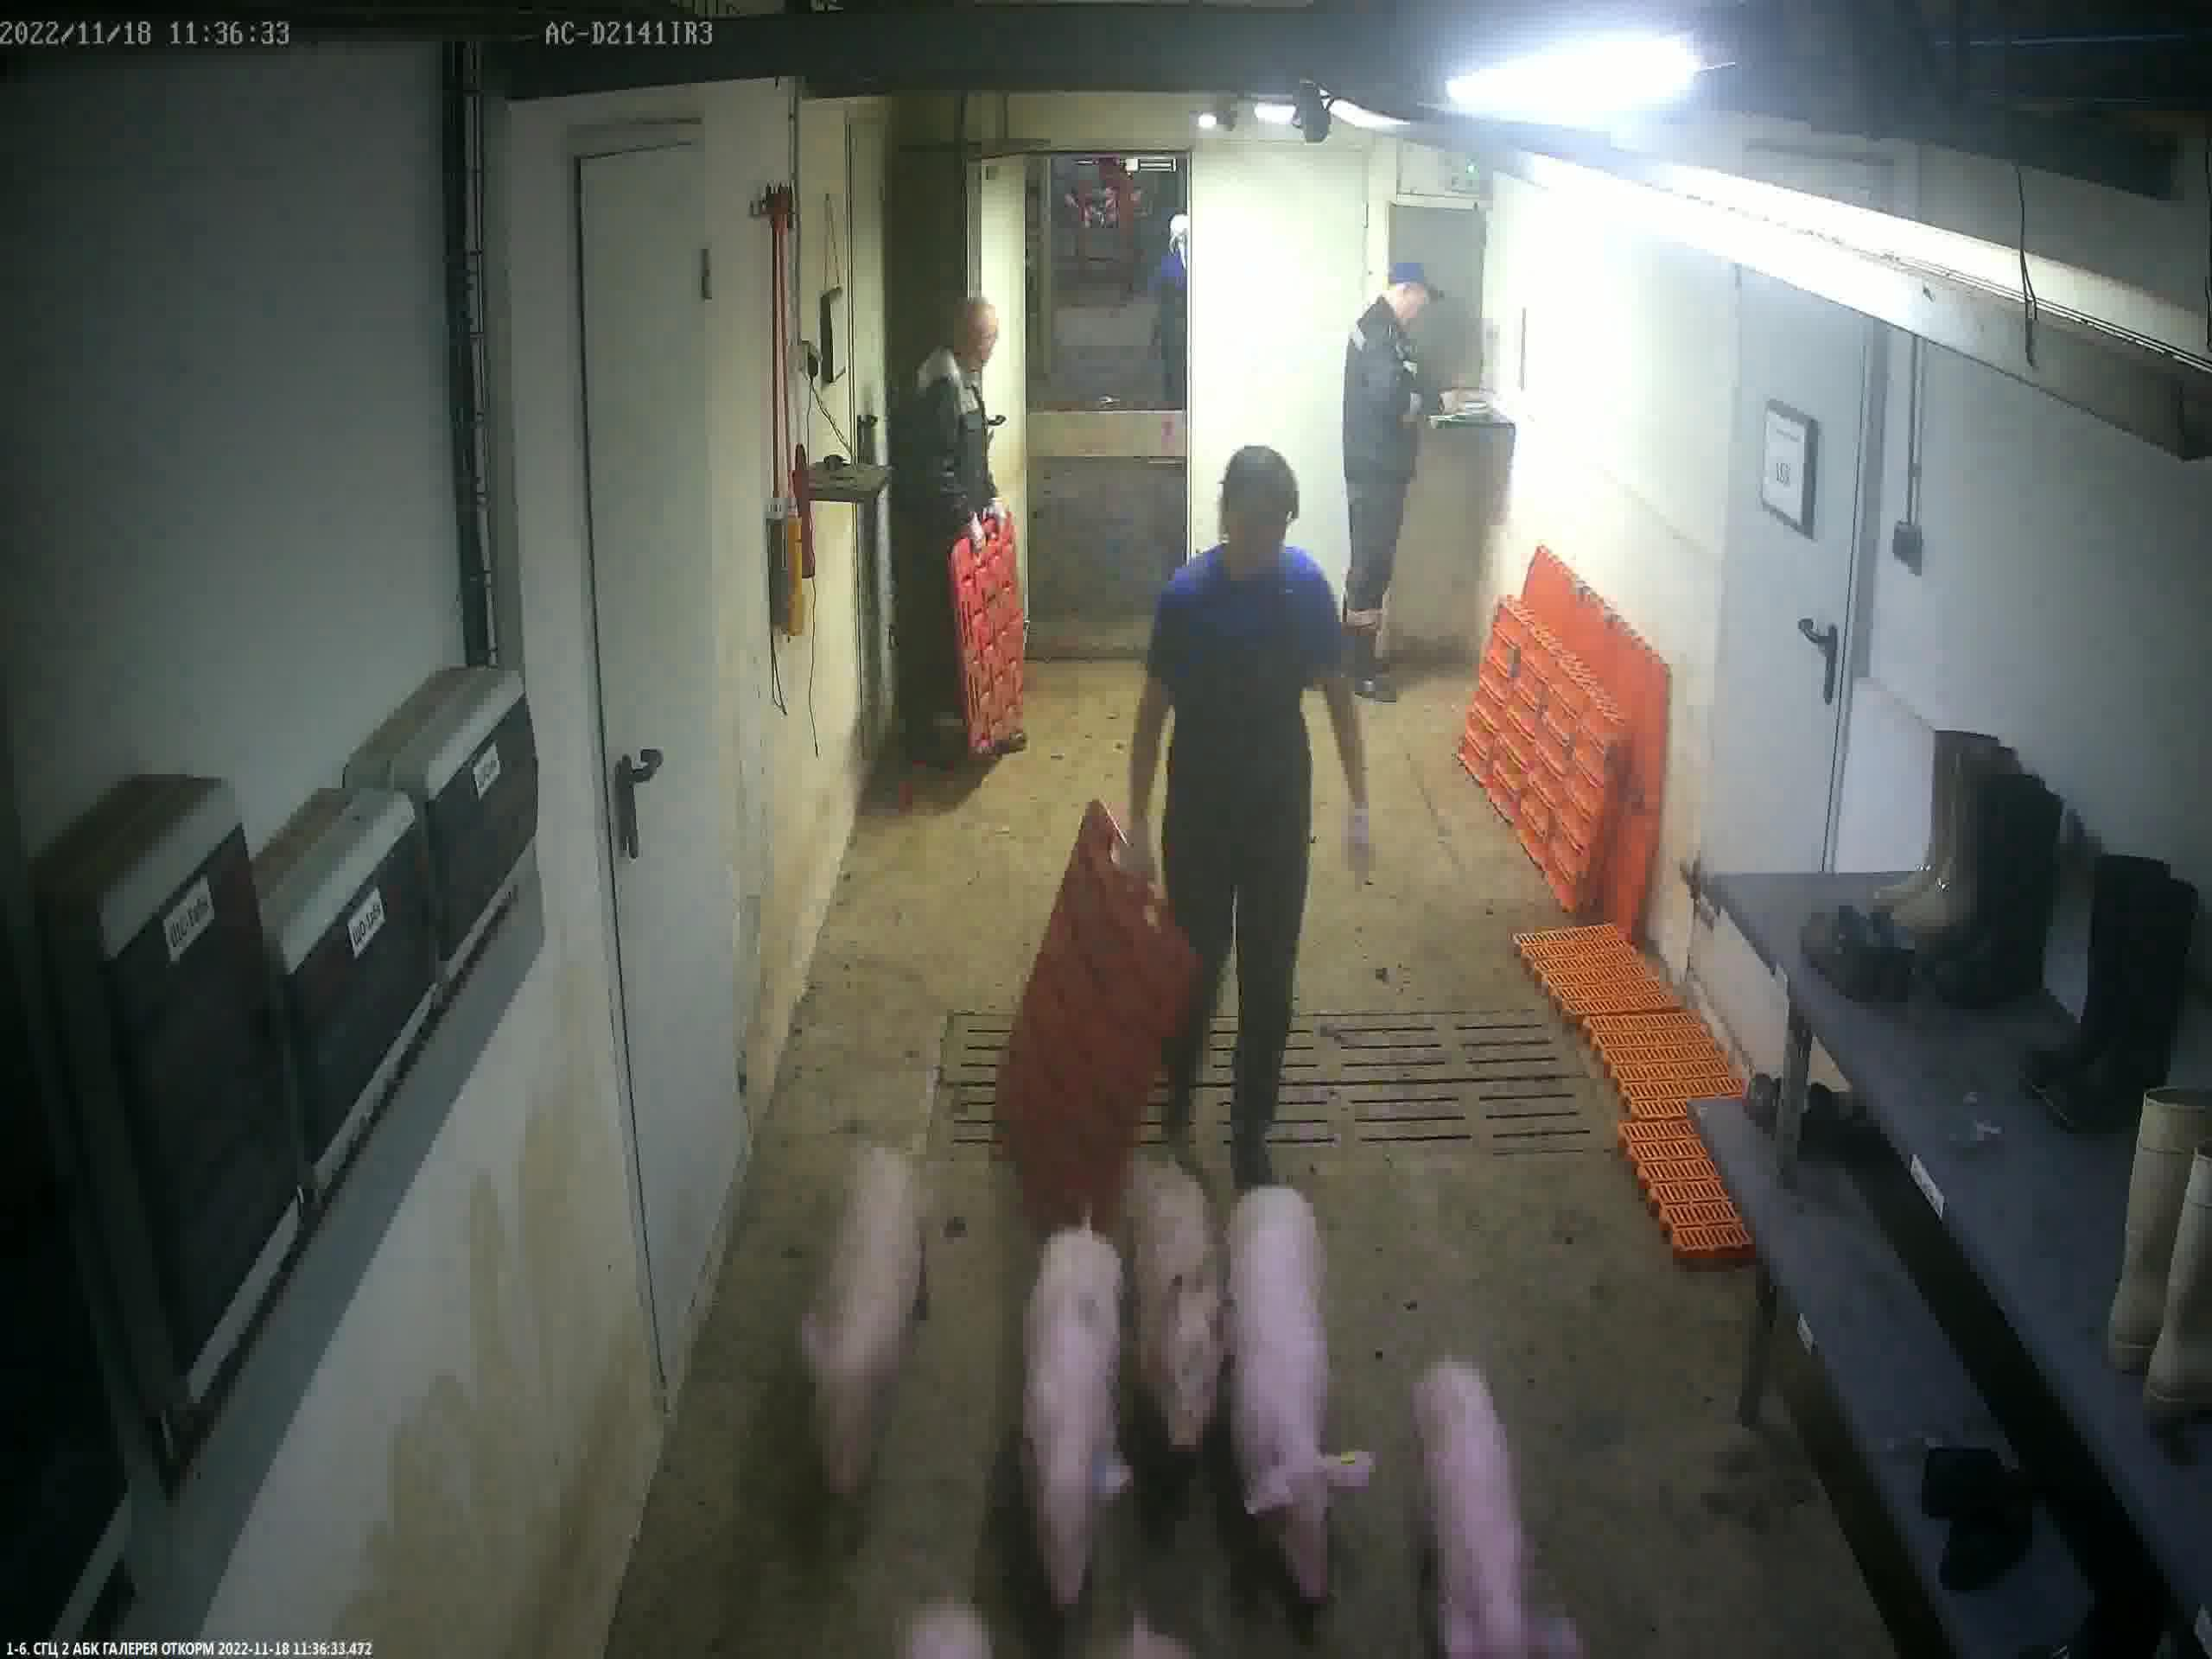Pigs: (1233, 1188, 1364, 1607), (1416, 1361, 1576, 1659), (812, 1152, 927, 1513), (1024, 1229, 1129, 1612), (1136, 1166, 1230, 1459)
